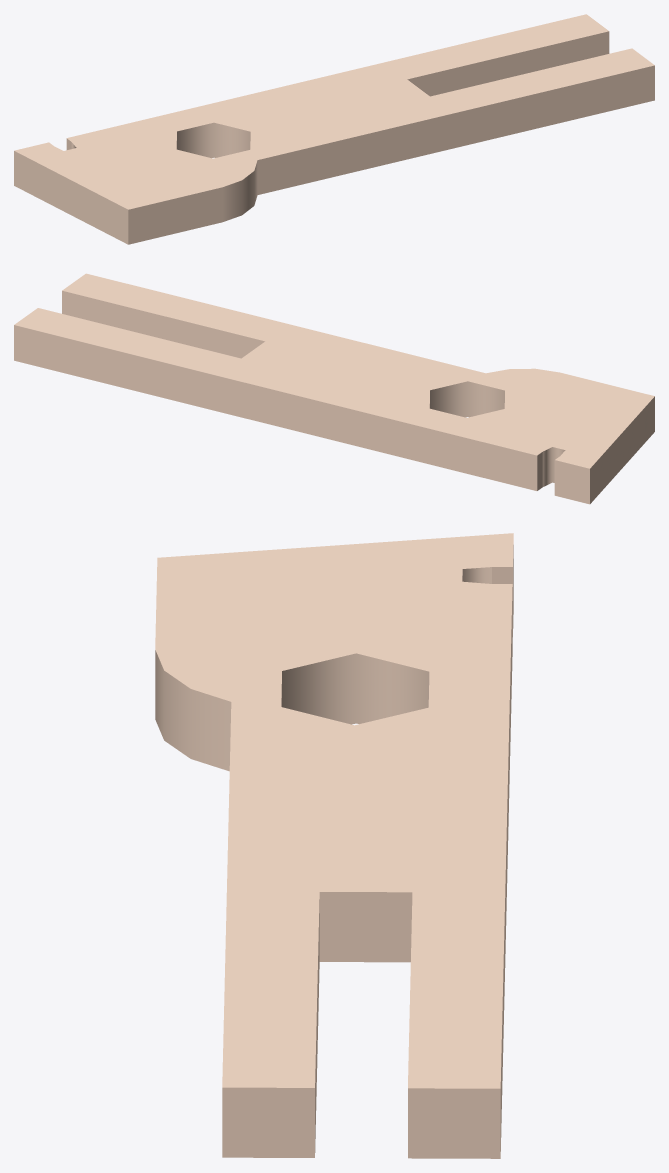
File: Marteau - plaque_Quarts - H_Quart - H.obj
3 views of the same model, one above another, from view 1: azimuth 30°, elevation 25°; view 2: azimuth 150°, elevation 25°; view 3: azimuth 270°, elevation 25° (orthographic). The views are drawn at different scales.
Visible parts, largest first — view 1: Face_13, Face_8, Face_4, Face_11, Face_10, Face_14, Face_9; view 2: Face_13, Face_1, Face_6, Face_11, Face_14, Face_2, Face_15; view 3: Face_13, Face_14, Face_3, Face_7, Face_5, Face_9, Face_1.
Boxes of the visible parts, bbox=[...] form: Face_13: bbox=[14, 14, 654, 209]; Face_8: bbox=[257, 65, 654, 194]; Face_4: bbox=[407, 31, 609, 96]; Face_11: bbox=[14, 151, 128, 244]; Face_10: bbox=[128, 187, 222, 244]; Face_14: bbox=[176, 122, 250, 158]; Face_9: bbox=[222, 160, 257, 221]; Face_13: bbox=[14, 273, 654, 468]; Face_1: bbox=[14, 325, 537, 490]; Face_6: bbox=[62, 290, 264, 358]; Face_11: bbox=[590, 396, 654, 503]; Face_14: bbox=[429, 381, 504, 417]; Face_2: bbox=[554, 460, 589, 504]; Face_15: bbox=[542, 447, 565, 486]; Face_13: bbox=[155, 533, 513, 1088]; Face_14: bbox=[281, 653, 429, 724]; Face_3: bbox=[408, 1088, 500, 1158]; Face_7: bbox=[222, 1087, 314, 1157]; Face_5: bbox=[319, 892, 412, 962]; Face_9: bbox=[155, 650, 231, 771]; Face_1: bbox=[500, 587, 512, 1151].
Bounding box in the file's own units: 0.0425 × 0.0025 × 0.0116.
